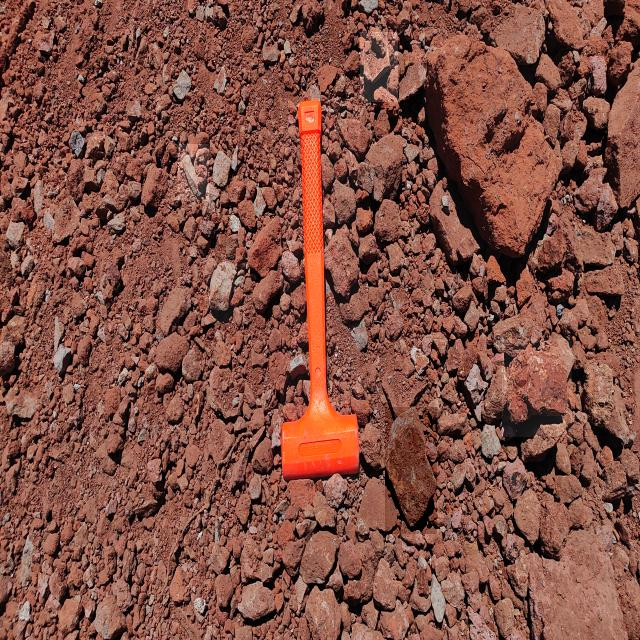Orange_hammer: (280, 98, 360, 481)
rock: (423, 25, 560, 258), (502, 339, 572, 437), (385, 407, 437, 534), (205, 255, 245, 324), (361, 32, 398, 102), (178, 144, 209, 201), (94, 598, 132, 636), (172, 74, 196, 100)
